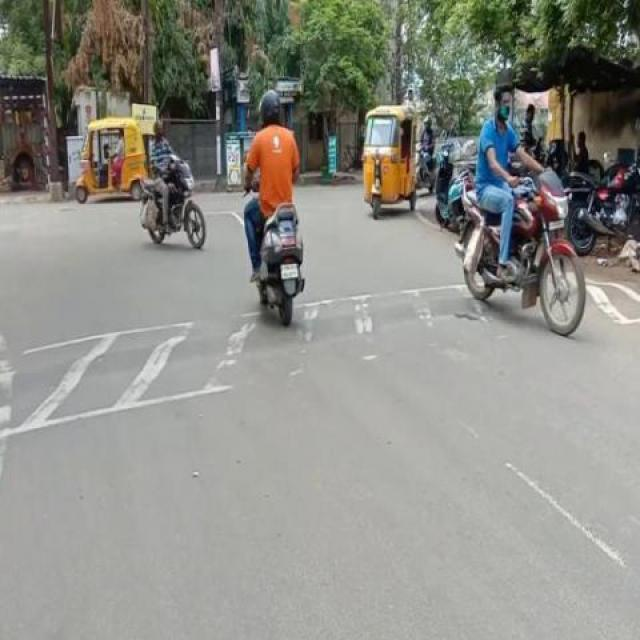Speed Bump: (0, 323, 283, 402), (296, 291, 470, 341), (586, 282, 638, 308)
